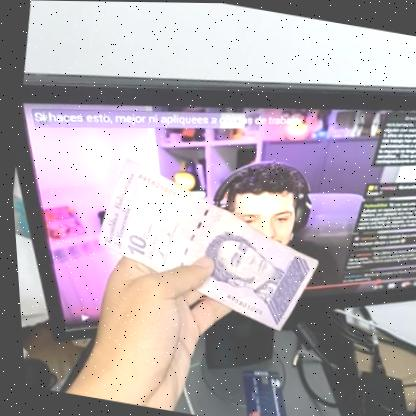vef_front: (78, 153, 330, 338)
